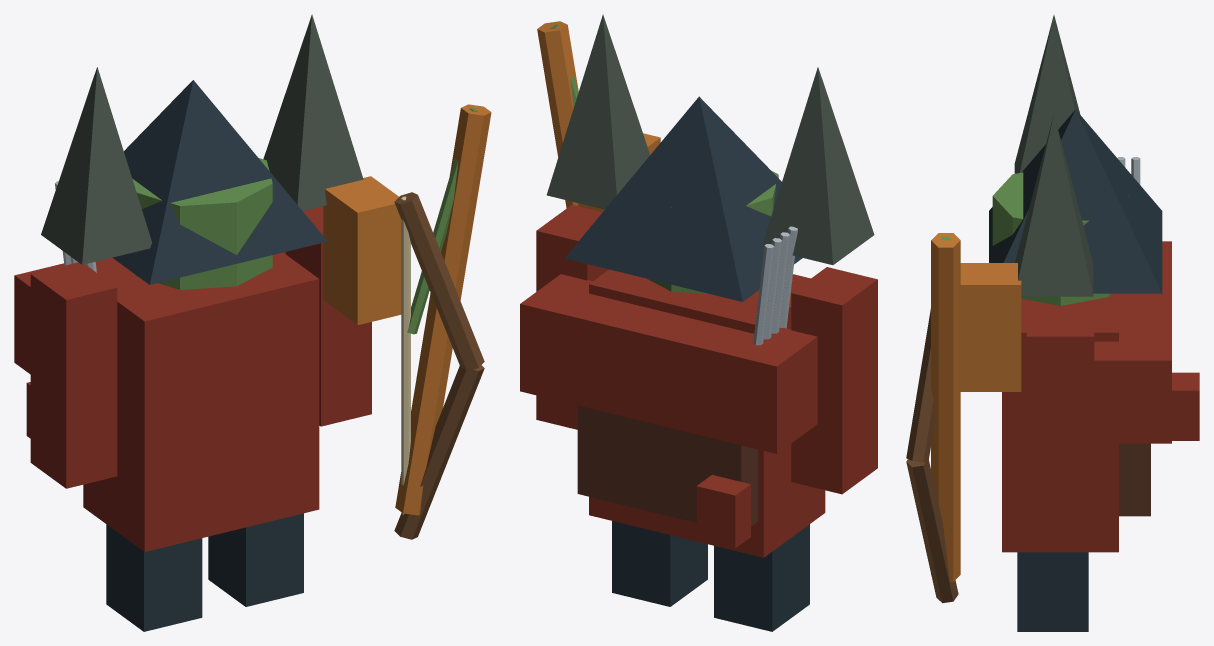
File: archer.obj
The picture shows the model from 3 angles, left to right: view 1: azimuth 30°, elevation 25°; view 2: azimuth 150°, elevation 25°; view 3: azimuth 270°, elevation 25°; orthographic projection. The views are drawn at different scales.
Parts seen in each view (by area): view 1: ranged; view 2: ranged; view 3: ranged.
Part boxes in pixels (x1,y1,x2,y2): ranged: [14, 14, 491, 631]; ranged: [520, 14, 877, 631]; ranged: [906, 15, 1199, 631].
Size of the model in its own units: 1.27 by 1.79 by 0.896.
